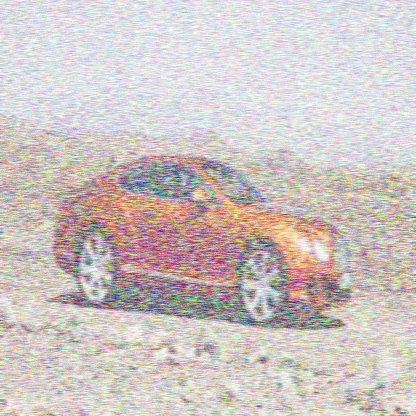Vehicle: (52, 153, 356, 334)
